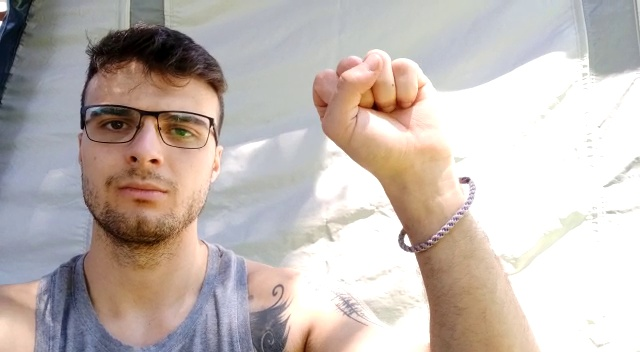Fist: (311, 48, 452, 182)
